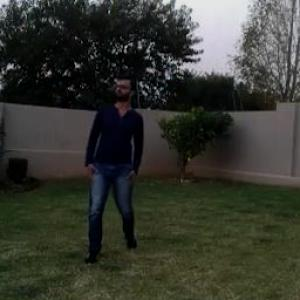follow: (81, 66, 148, 260)
